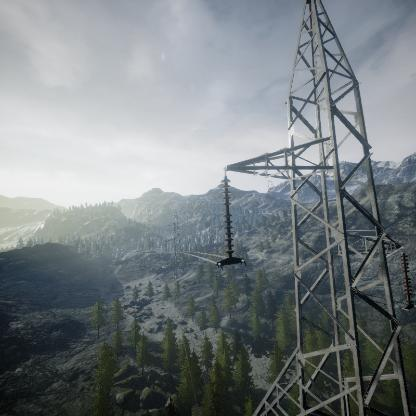insulator: (218, 176, 238, 258), (397, 252, 415, 306)
